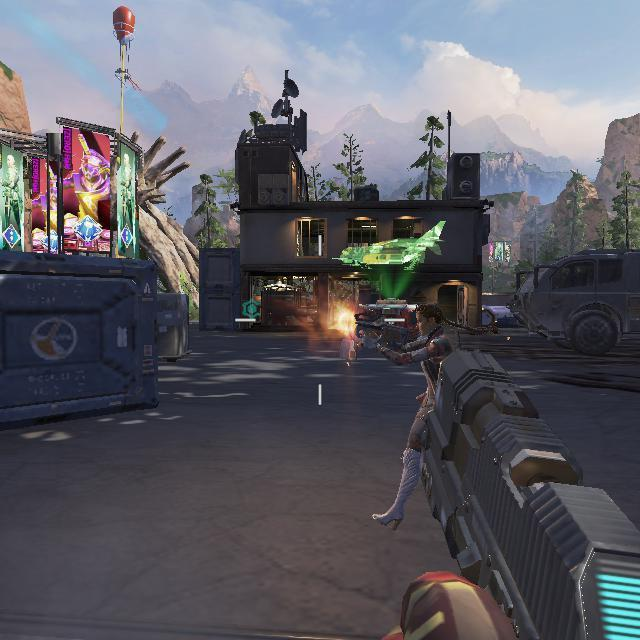avatar: (411, 300, 459, 398)
